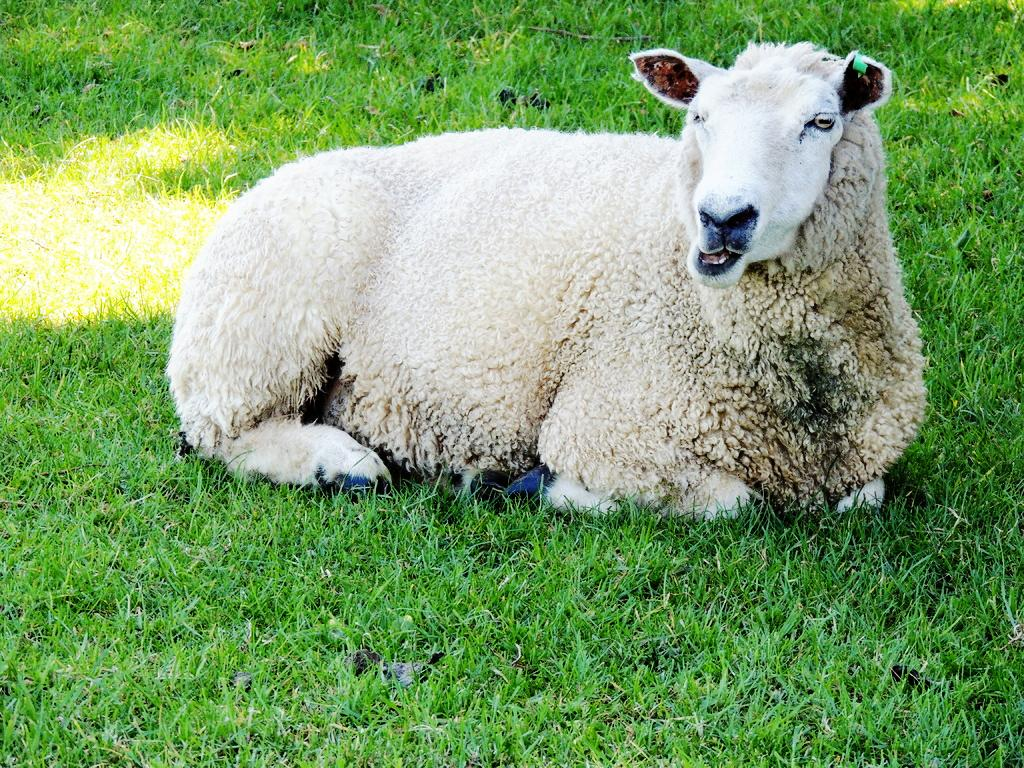Sheep: (166, 38, 928, 519)
